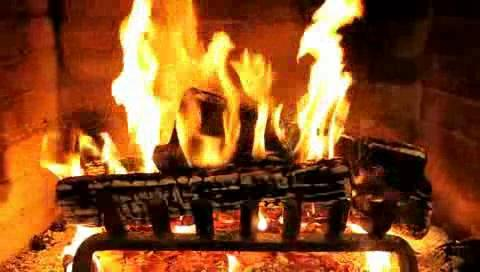fire: (50, 5, 360, 161), (51, 225, 114, 272), (364, 249, 405, 272)
